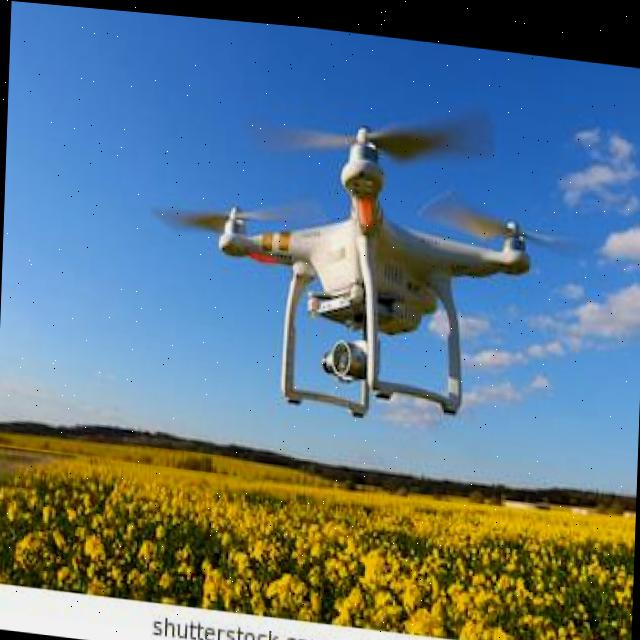drone: (135, 43, 603, 453)
